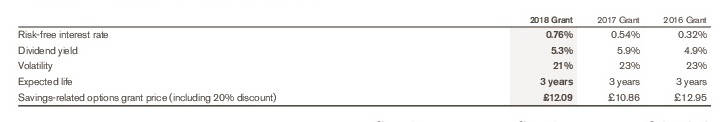table: (0, 0, 728, 122)
